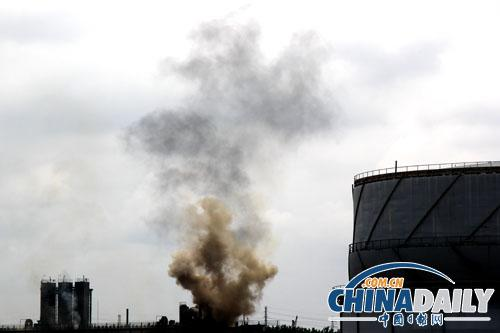smoke: (140, 32, 300, 300)
